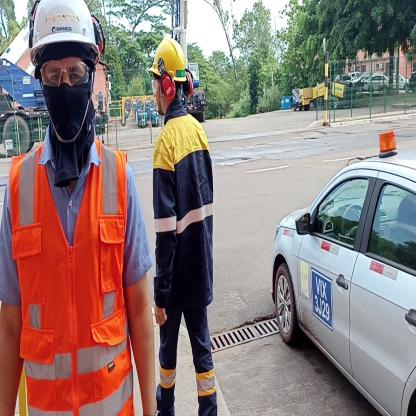Balaclava: (36, 51, 98, 156)
C_eletrica: (156, 122, 212, 302)
Capacete: (30, 0, 97, 51), (148, 23, 190, 85)
colete: (12, 148, 129, 416)
